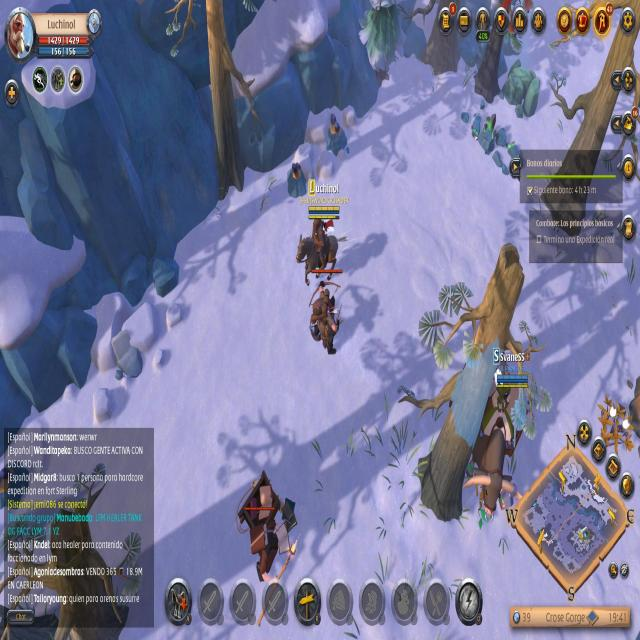piedra_cobre: (321, 110, 357, 168), (281, 153, 312, 206)
